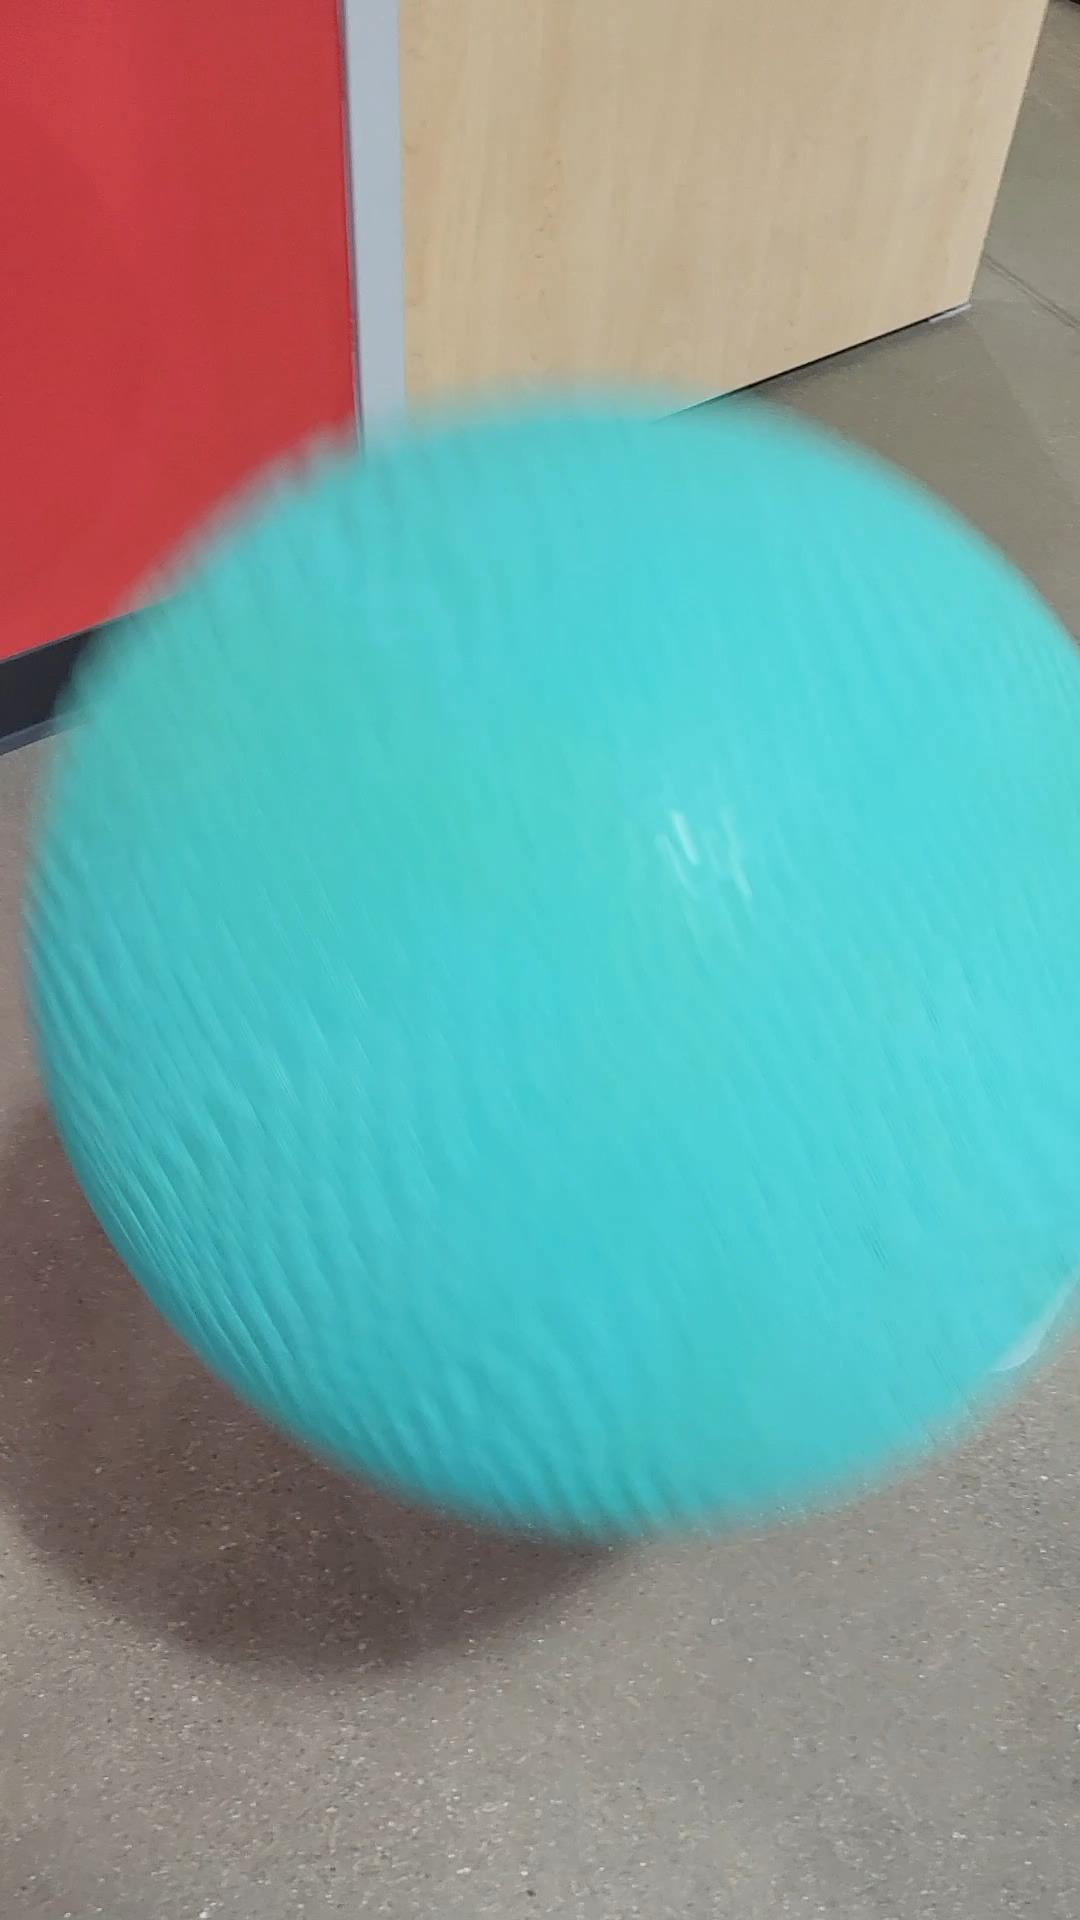algae: (36, 392, 1080, 1497)
